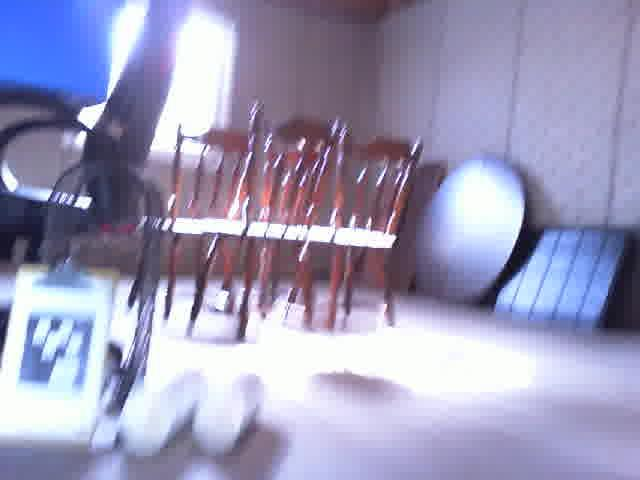coral: (116, 366, 208, 460), (193, 369, 265, 461)
